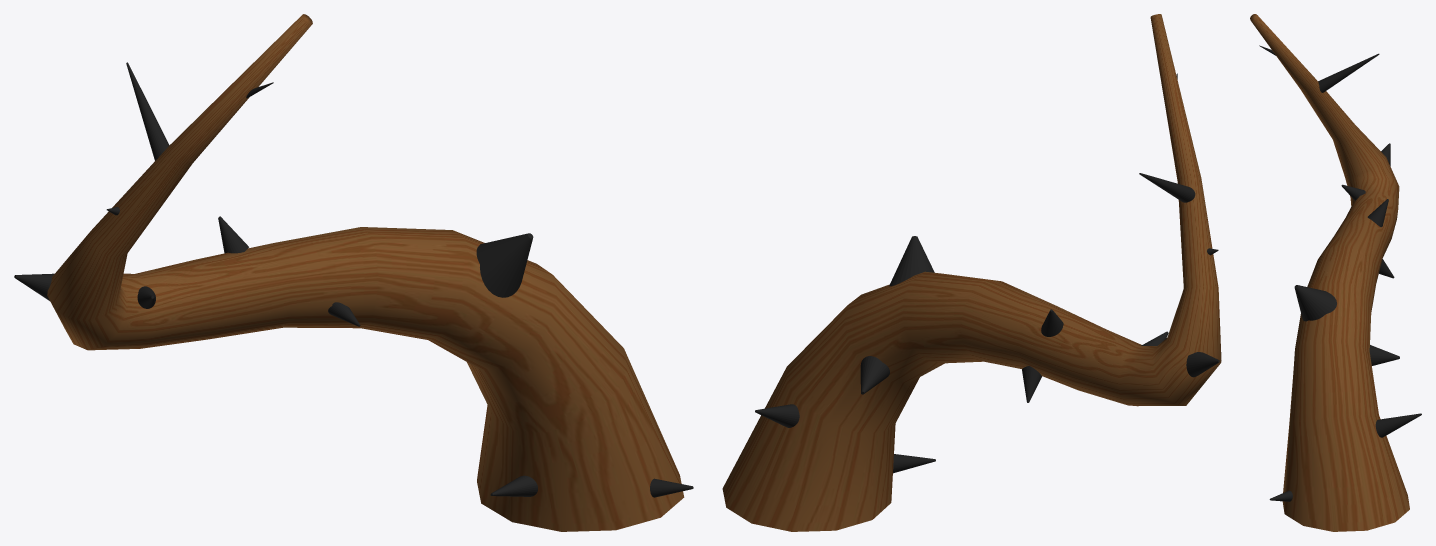
File: Spike_3.fbx
The picture shows the model from 3 angles, left to right: view 1: azimuth 30°, elevation 25°; view 2: azimuth 150°, elevation 25°; view 3: azimuth 270°, elevation 25°; orthographic projection. The views are drawn at different scales.
Visible parts, largest first — view 1: Spikes_3; view 2: Spikes_3; view 3: Spikes_3.
Boxes of the visible parts, x1,y1,x2,y2 form: Spikes_3: [14, 14, 693, 531]; Spikes_3: [722, 14, 1221, 531]; Spikes_3: [1250, 14, 1421, 531].
Size of the model in its own units: 108 by 102 by 41.36.
